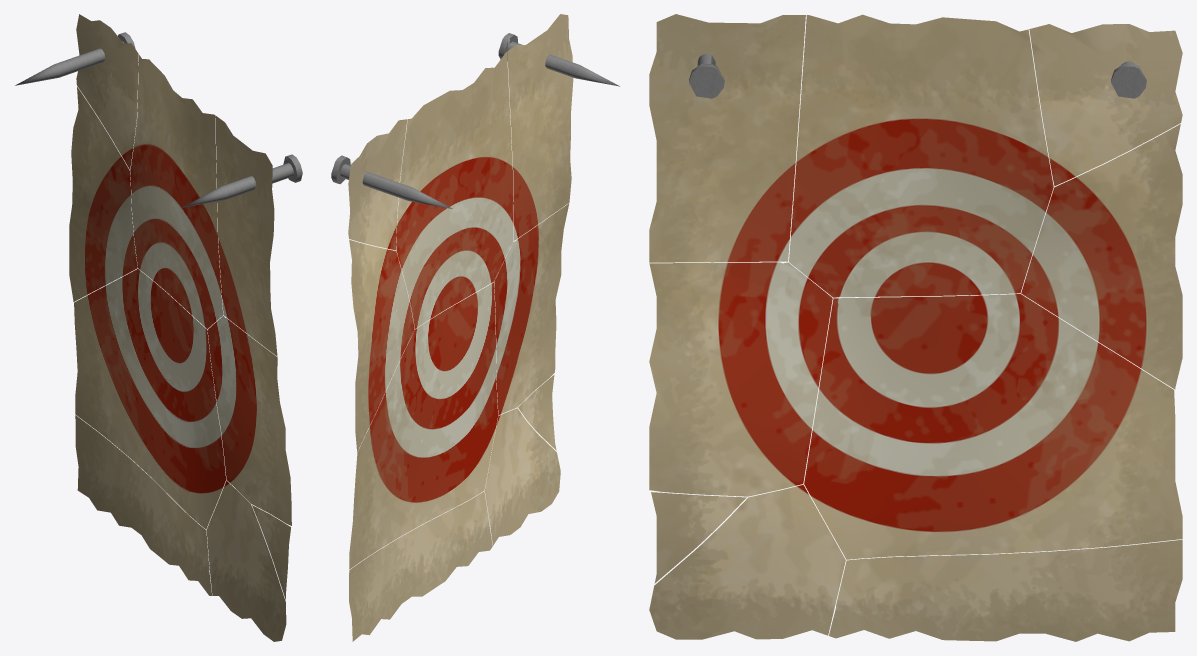
The model's file is ExplodingTarget_Pieces.glb.
3 views of the same model, side by side, from view 1: azimuth 30°, elevation 25°; view 2: azimuth 150°, elevation 25°; view 3: azimuth 270°, elevation 25° (orthographic). The views are drawn at different scales.
Visible parts, largest first — view 1: Target_cell.005, Target_cell.004, Target_cell.007, Target_cell.010, Target_cell.008, Target_cell.002, Target_cell.003, Target_cell.009, Target_cell, Target_cell.006, Target_cell.001; view 2: Target_cell.005, Target_cell.004, Target_cell.010, Target_cell.007, Target_cell.002, Target_cell.008, Target_cell.003, Target_cell.009, Target_cell.001, Target_cell, Target_cell.006; view 3: Target_cell.005, Target_cell.004, Target_cell.007, Target_cell.010, Target_cell.002, Target_cell.008, Target_cell.003, Target_cell.009, Target_cell, Target_cell.006, Target_cell.001.
Part boxes in pixels (x1,y1,x2,y2): Target_cell.005: [74, 269, 226, 529]; Target_cell.004: [130, 55, 223, 328]; Target_cell.007: [207, 316, 291, 525]; Target_cell.010: [215, 116, 277, 356]; Target_cell.008: [69, 87, 137, 301]; Target_cell.002: [75, 415, 211, 595]; Target_cell.003: [206, 480, 286, 641]; Target_cell.009: [76, 14, 138, 169]; Target_cell: [252, 505, 290, 599]; Target_cell.006: [181, 154, 302, 207]; Target_cell.001: [15, 32, 135, 85]; Target_cell.005: [349, 282, 498, 569]; Target_cell.004: [396, 52, 513, 328]; Target_cell.010: [507, 14, 573, 240]; Target_cell.007: [494, 203, 569, 415]; Target_cell.002: [349, 491, 492, 641]; Target_cell.008: [349, 240, 414, 452]; Target_cell.003: [484, 408, 560, 545]; Target_cell.009: [348, 119, 407, 250]; Target_cell.001: [331, 155, 452, 208]; Target_cell: [518, 375, 556, 450]; Target_cell.006: [498, 33, 619, 86]; Target_cell.005: [804, 294, 1182, 559]; Target_cell.004: [789, 14, 1053, 297]; Target_cell.007: [649, 262, 832, 496]; Target_cell.010: [649, 14, 805, 262]; Target_cell.002: [829, 539, 1182, 641]; Target_cell.008: [1021, 124, 1182, 389]; Target_cell.003: [649, 484, 845, 639]; Target_cell.009: [1029, 24, 1182, 186]; Target_cell: [651, 492, 746, 583]; Target_cell.006: [689, 54, 724, 98]; Target_cell.001: [1111, 61, 1146, 98].
Bounding box in the file's own units: 0.4679 × 1.89 × 1.47.
1 material, 1 textured.
